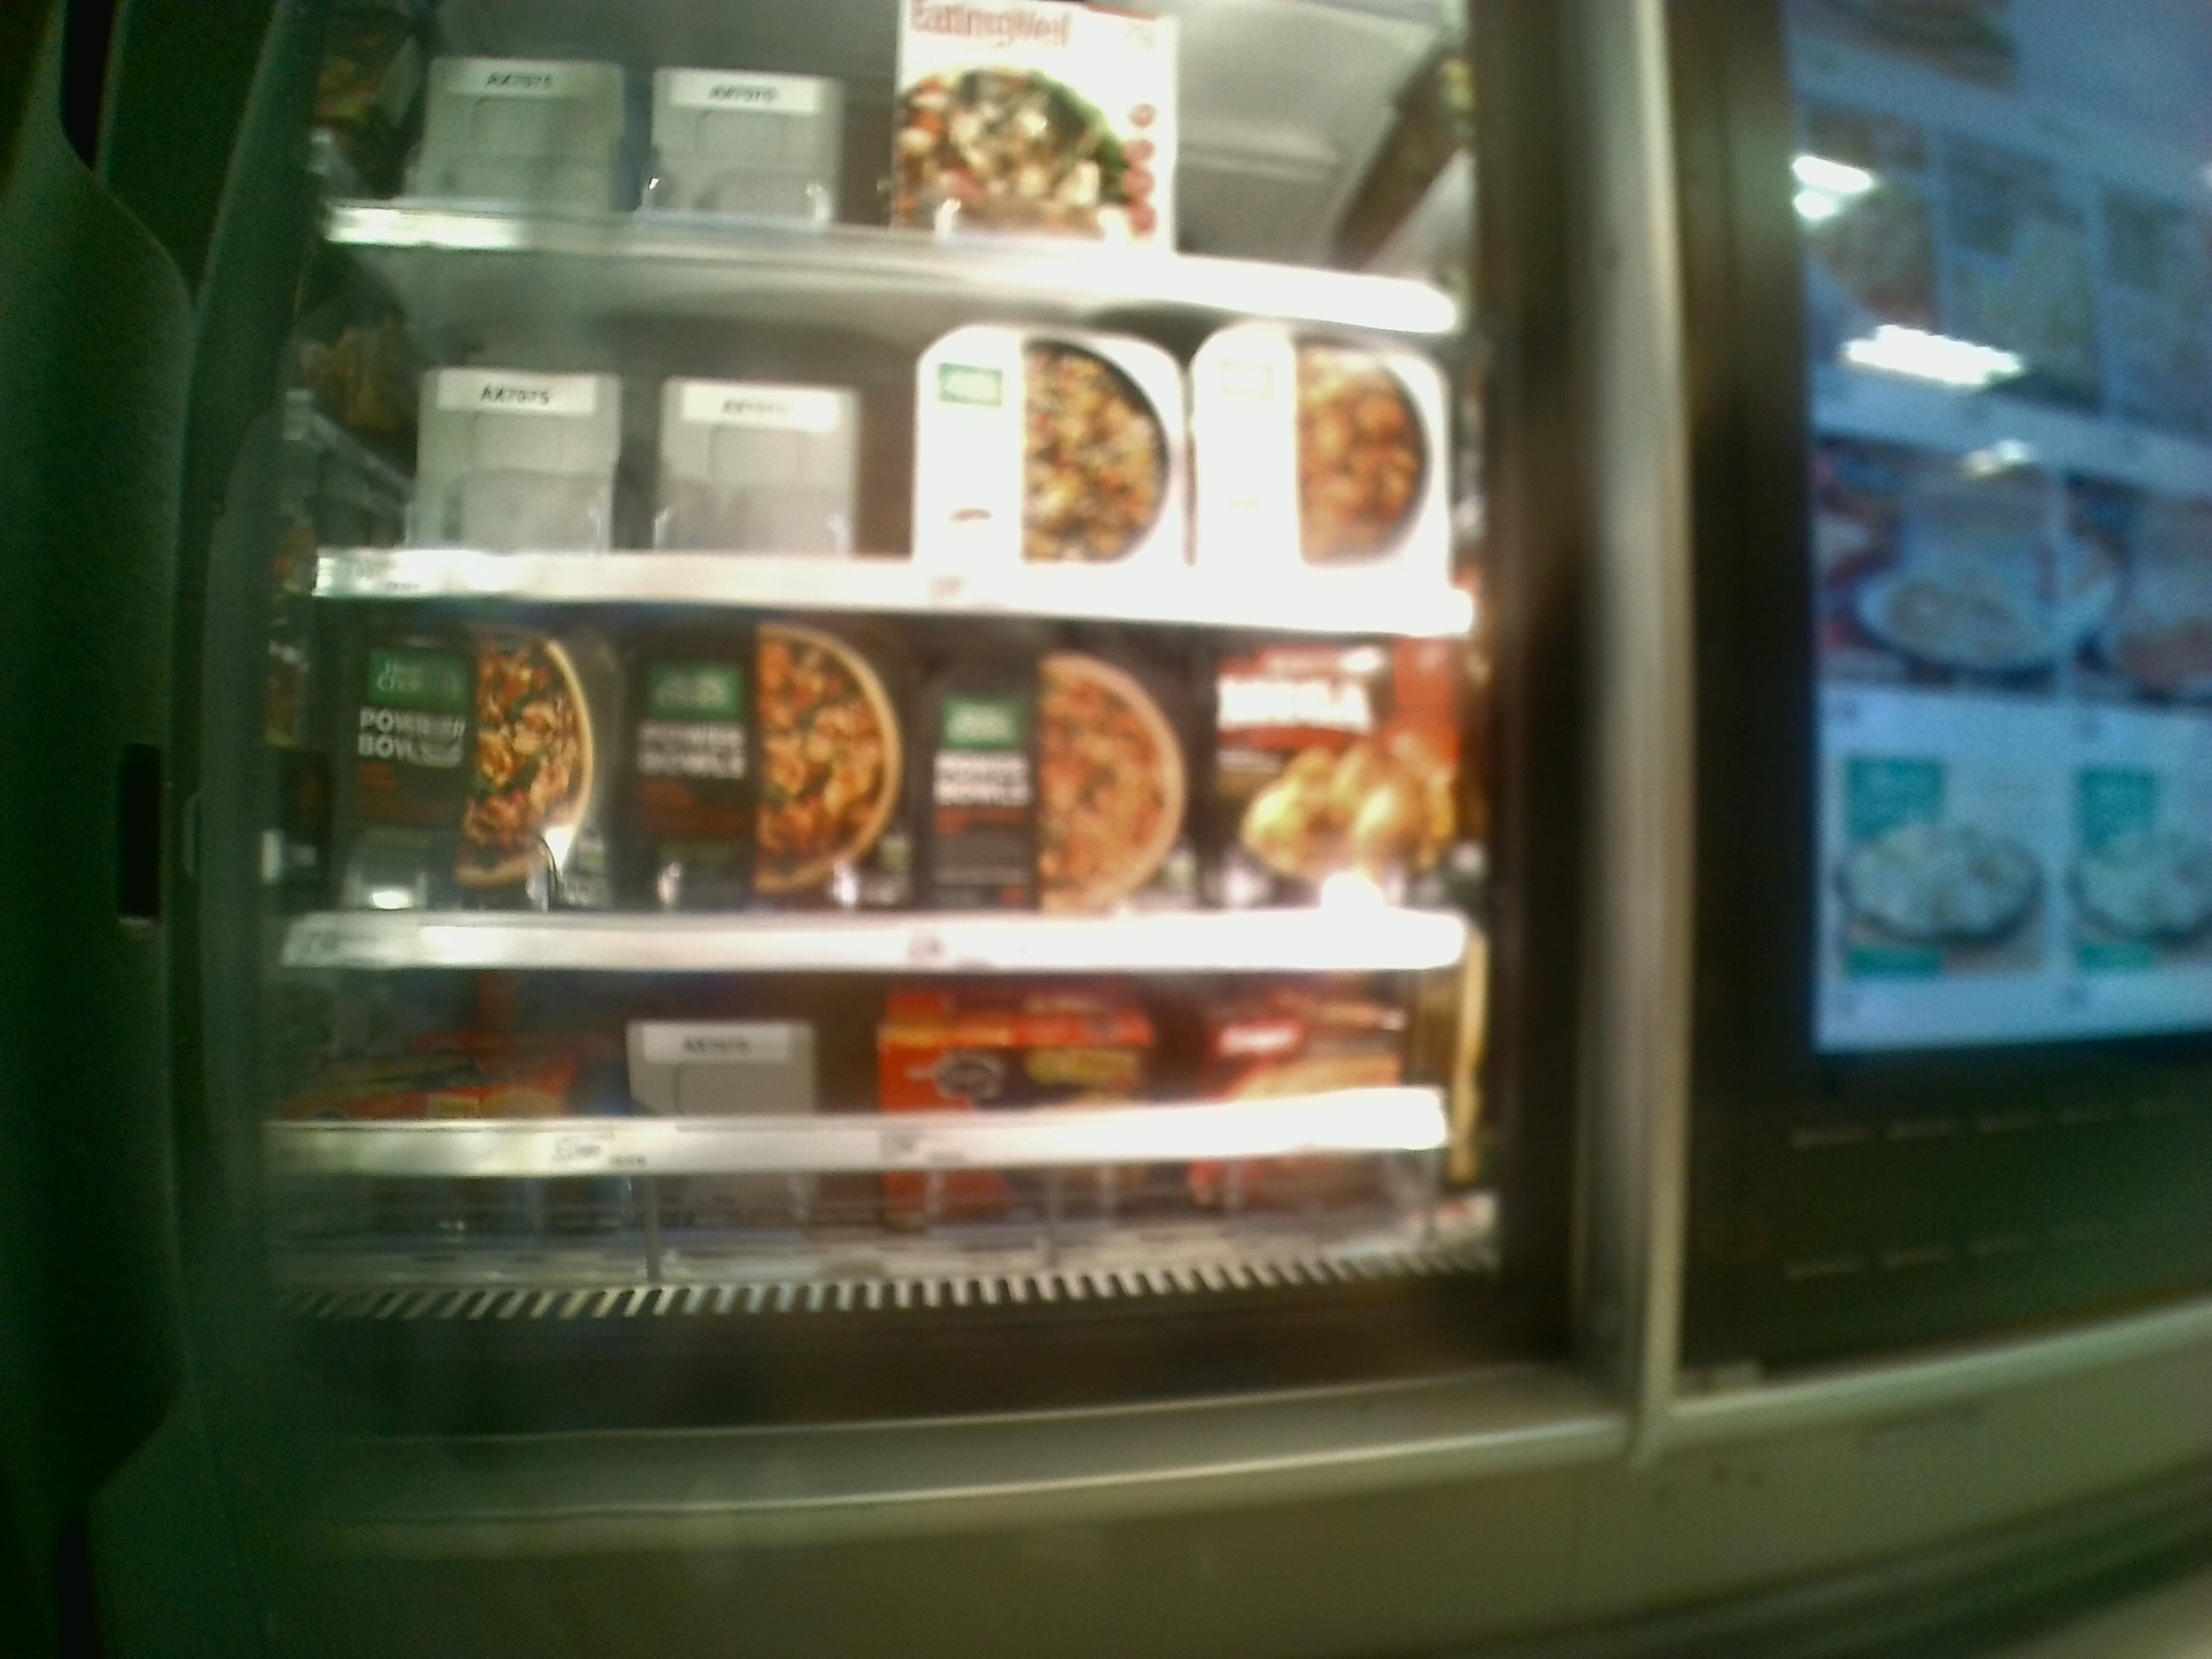shelf: (286, 596, 1503, 967), (314, 242, 1470, 626), (254, 972, 1496, 1324)
